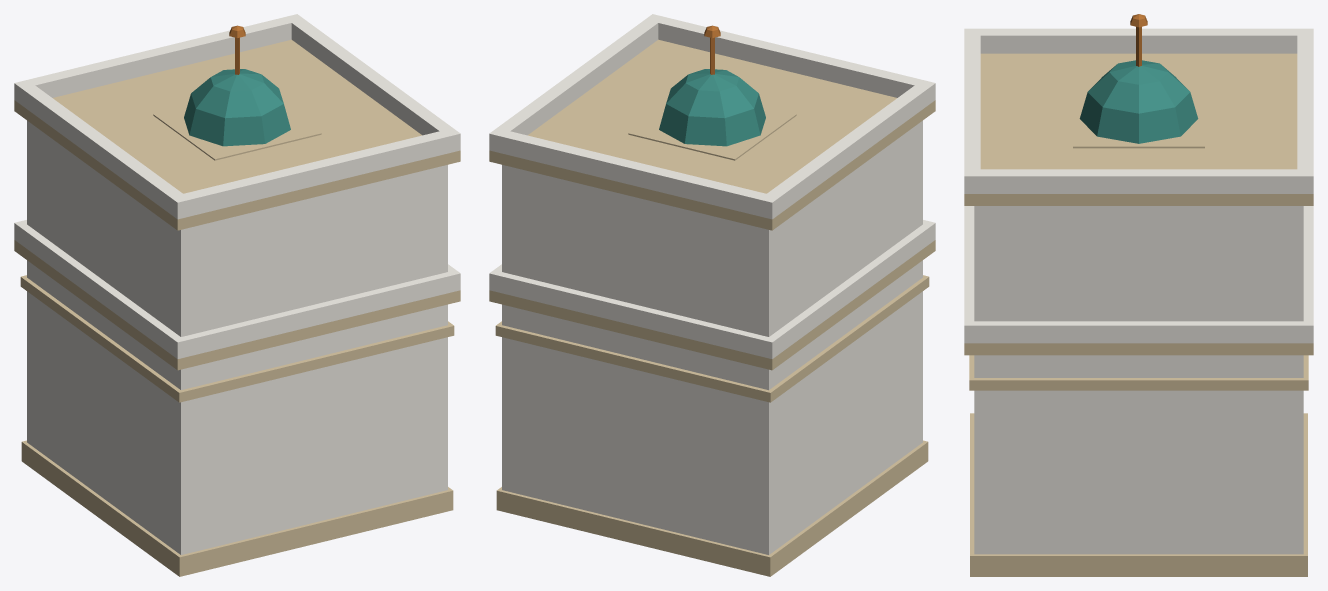
File: medina.glb
3 renders of one model, left to right at view 1: azimuth 30°, elevation 25°; view 2: azimuth 150°, elevation 25°; view 3: azimuth 270°, elevation 25°, orthographic. The views are drawn at different scales.
Parts seen in each view (by area): view 1: block_l, block_m, tower; view 2: block_l, block_m, tower; view 3: block_l, block_m, tower.
Boxes of the visible parts, x1,y1,x2,y2 form: block_l: [14, 14, 460, 576]; block_m: [14, 220, 460, 554]; tower: [153, 25, 321, 160]; block_l: [489, 14, 935, 576]; block_m: [489, 220, 935, 554]; tower: [628, 25, 796, 160]; block_l: [964, 28, 1313, 576]; block_m: [964, 206, 1313, 554]; tower: [1073, 14, 1204, 148].
Size of the model in its own units: 2.12 by 3.29 by 2.12.
1 material, 1 textured.
